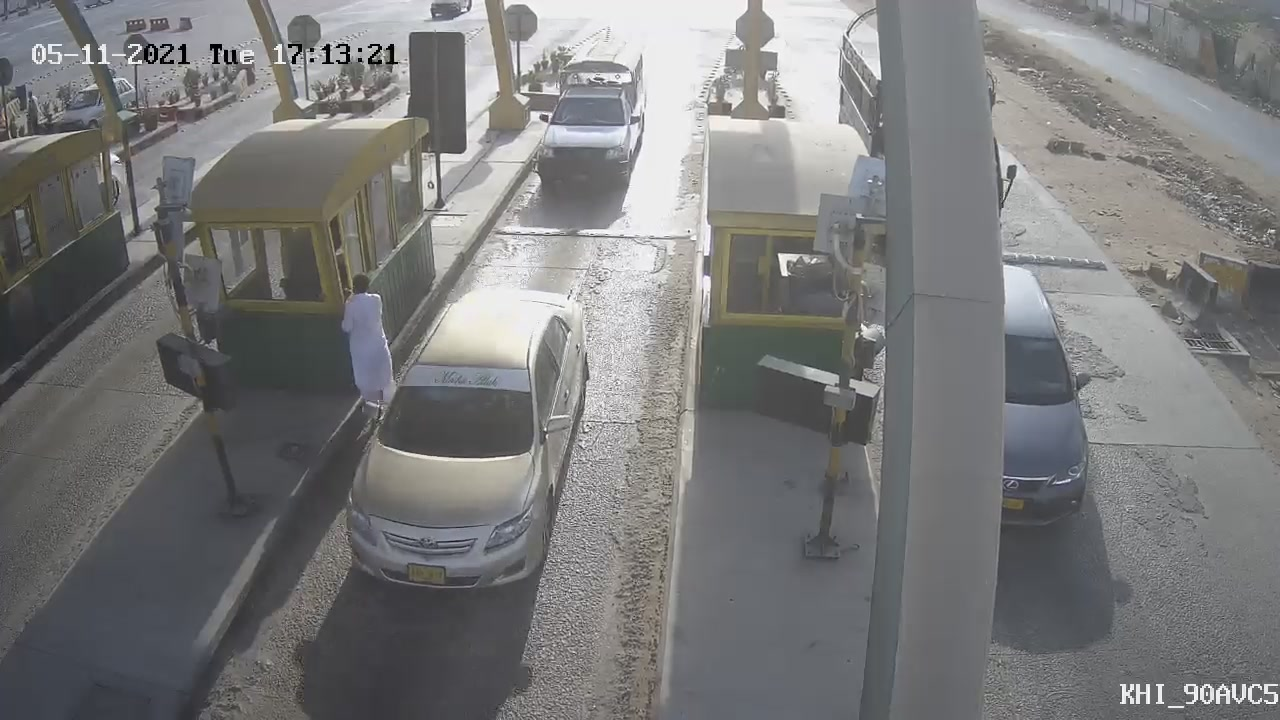F1: (326, 262, 613, 614), (516, 22, 663, 216)
